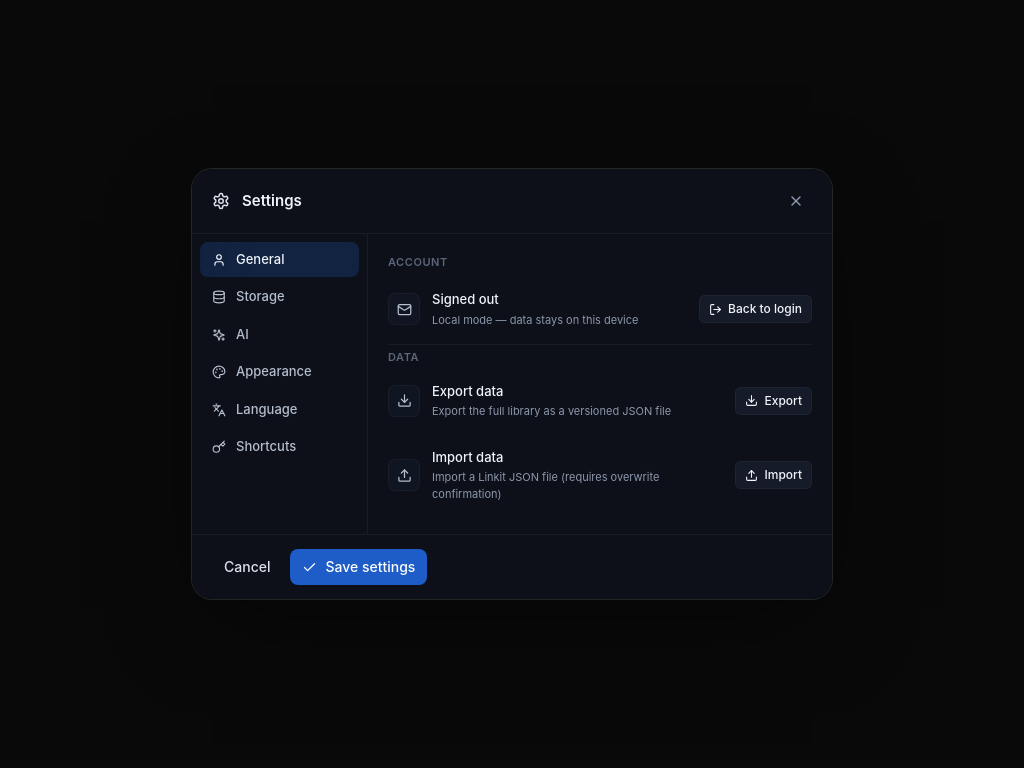
it: SettingsDialog 保存设置 › onSave 失败时显示错误并恢复保存按钮
What coordinates should you click on to do the following:
click the button "Save settings"
I would click on:
 (359, 567)
Its box is [290,549,427,585].
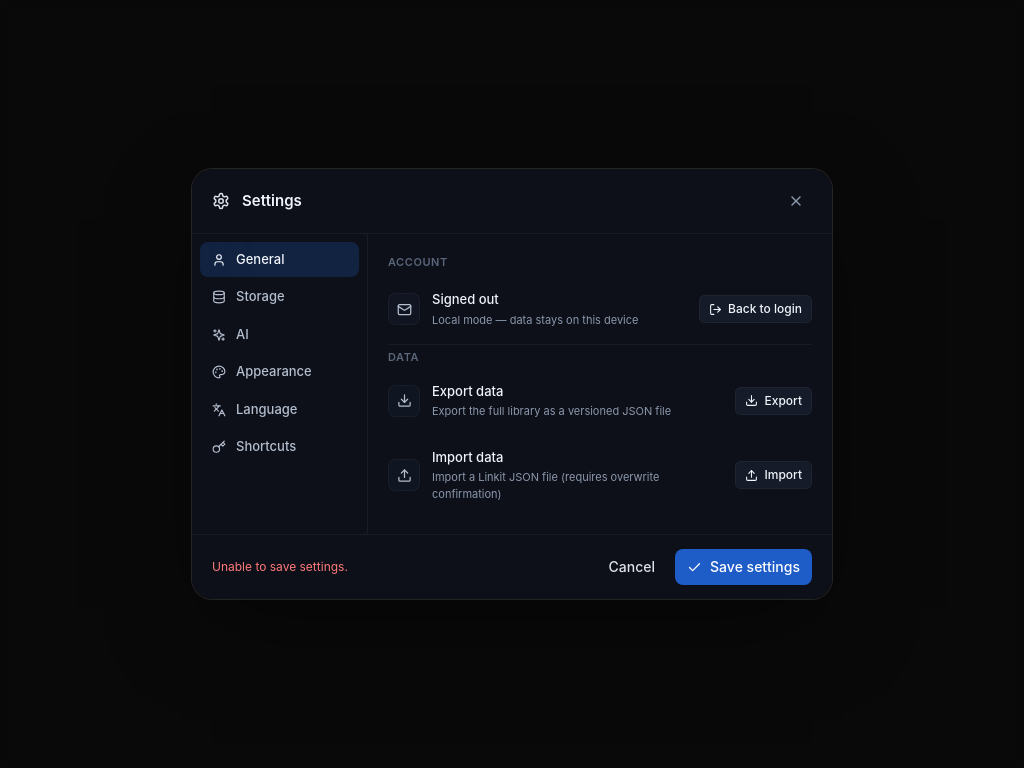
Expected: the button "Save settings" is enabled, [675,549,812,585]
Now the message reads "Unable to save settings.", box [212,559,348,574]
